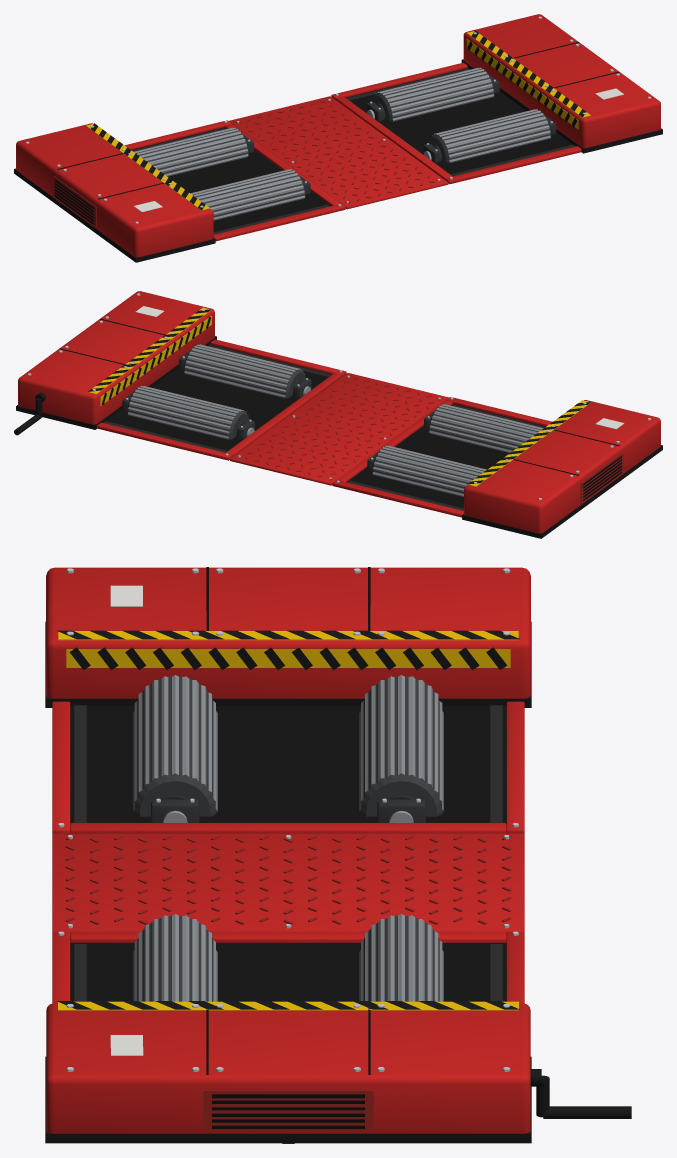
The model's file is brake-tester.glb.
3 renders of one model, top to bottom at view 1: azimuth 30°, elevation 25°; view 2: azimuth 150°, elevation 25°; view 3: azimuth 270°, elevation 25°, orthographic. The views are drawn at different scales.
Parts seen in each view (by area): view 1: Base, Roller_RS_mesh, Roller_RN_mesh, Roller_LS_mesh, Roller_LN_mesh; view 2: Base, Roller_RN_mesh, Roller_RS_mesh, Roller_LN_mesh, Roller_LS_mesh; view 3: Base, Roller_LN_mesh, Roller_LS_mesh, Roller_RS_mesh, Roller_RN_mesh.
Part boxes in pixels (left/top/right/bottom): Base: left=14, top=14, right=662, bottom=262; Roller_RS_mesh: left=429, top=109, right=551, bottom=163; Roller_RN_mesh: left=372, top=67, right=494, bottom=121; Roller_LS_mesh: left=190, top=169, right=305, bottom=220; Roller_LN_mesh: left=133, top=127, right=248, bottom=176; Base: left=14, top=291, right=662, bottom=538; Roller_RN_mesh: left=127, top=386, right=249, bottom=439; Roller_RS_mesh: left=184, top=344, right=305, bottom=398; Roller_LN_mesh: left=372, top=445, right=486, bottom=496; Roller_LS_mesh: left=429, top=404, right=543, bottom=452; Base: left=45, top=567, right=631, bottom=1143; Roller_LN_mesh: left=359, top=675, right=443, bottom=816; Roller_LS_mesh: left=133, top=675, right=217, bottom=816; Roller_RS_mesh: left=133, top=914, right=217, bottom=1001; Roller_RN_mesh: left=359, top=914, right=443, bottom=1001.
Size of the model in its own units: 3.01 by 0.481 by 1.45.
